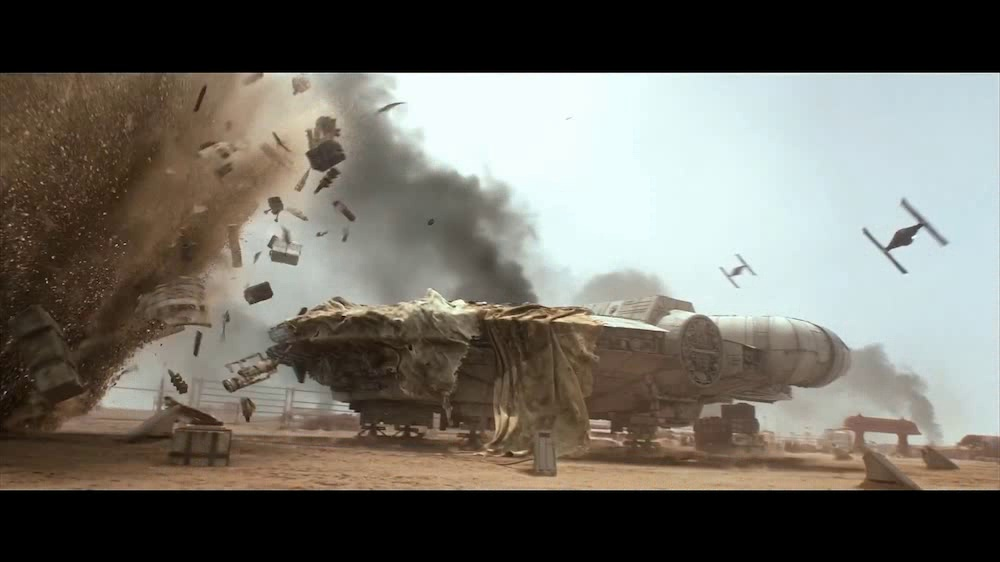Millennium Falcon: (260, 296, 871, 464)
Tie Fighter: (854, 193, 955, 281), (712, 251, 760, 292)
